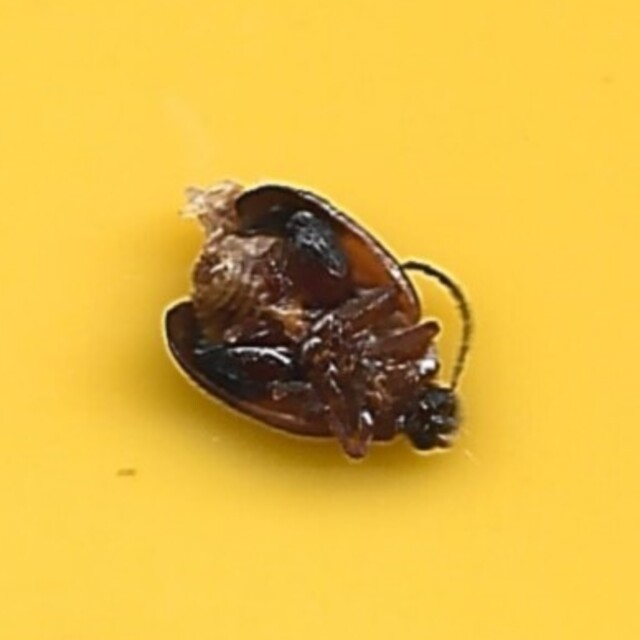Coleoptera: (165, 175, 475, 465)
